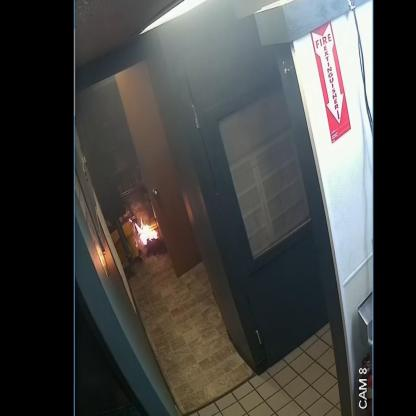fire: (134, 216, 158, 245)
